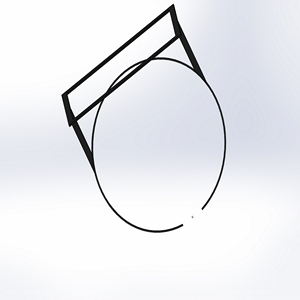circle: (59, 3, 228, 234)
